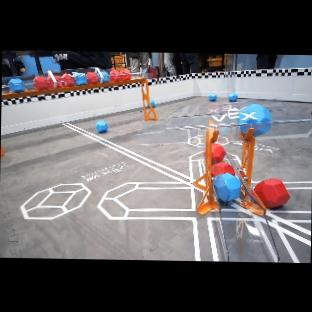V5_BLUE: (95, 120, 107, 132), (228, 93, 237, 101), (208, 93, 216, 101), (149, 99, 154, 107)
V5_RED: (254, 178, 289, 208)
blueingoal: (212, 172, 240, 201), (237, 104, 271, 123), (252, 125, 270, 136), (240, 126, 248, 132)
redingoal: (211, 143, 234, 177), (211, 162, 234, 177), (53, 73, 75, 88), (107, 69, 130, 82), (32, 76, 53, 89), (84, 72, 98, 84), (102, 74, 107, 82), (203, 150, 207, 157)
